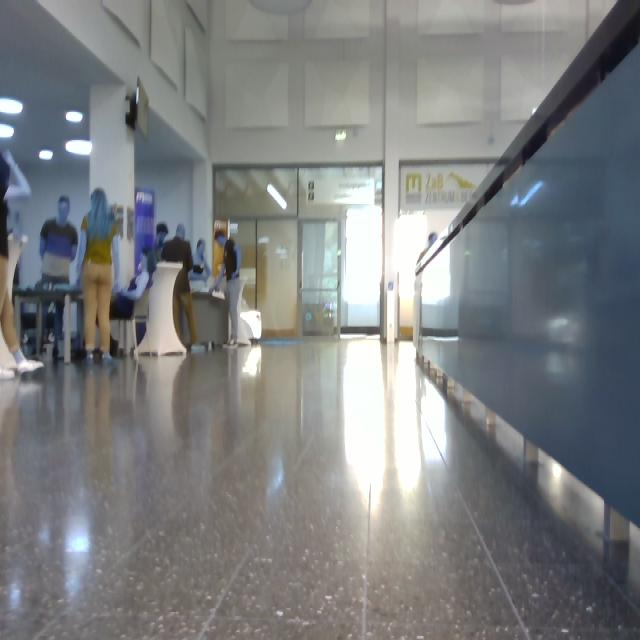chair: (112, 317, 137, 356)
desk: (181, 293, 228, 350)
door: (300, 222, 341, 336), (258, 221, 297, 337), (229, 221, 256, 312)
light bulb: (268, 184, 287, 210), (67, 533, 89, 552), (67, 140, 92, 156), (1, 98, 23, 114), (66, 110, 84, 124), (1, 124, 14, 138), (40, 150, 52, 161), (336, 130, 346, 141)
person: (1, 152, 42, 373), (81, 188, 119, 358), (162, 226, 197, 350), (211, 232, 249, 345), (111, 248, 157, 320), (41, 196, 78, 285), (193, 240, 210, 281), (156, 224, 168, 260), (56, 301, 62, 349)
pillar: (90, 86, 135, 288)
staircase: (414, 1, 640, 578)
table: (138, 262, 186, 354)
tiled floor: (1, 341, 640, 640)
